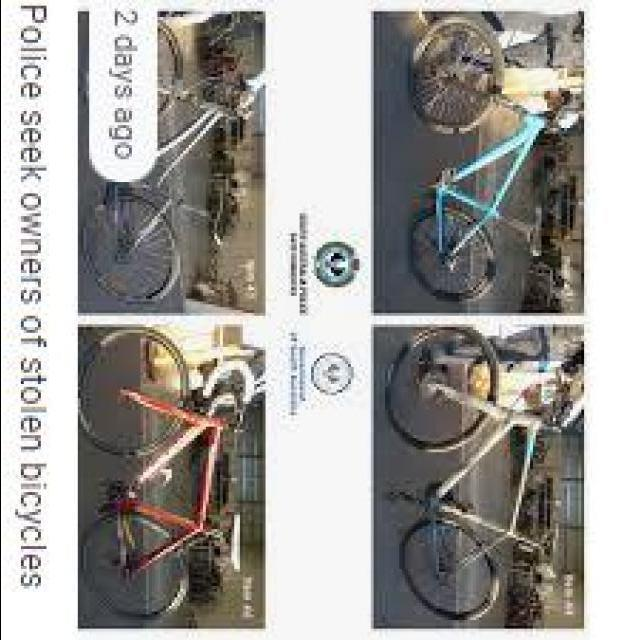bicycle: (383, 325, 573, 627), (81, 325, 257, 623), (81, 27, 257, 309), (405, 24, 573, 306)
